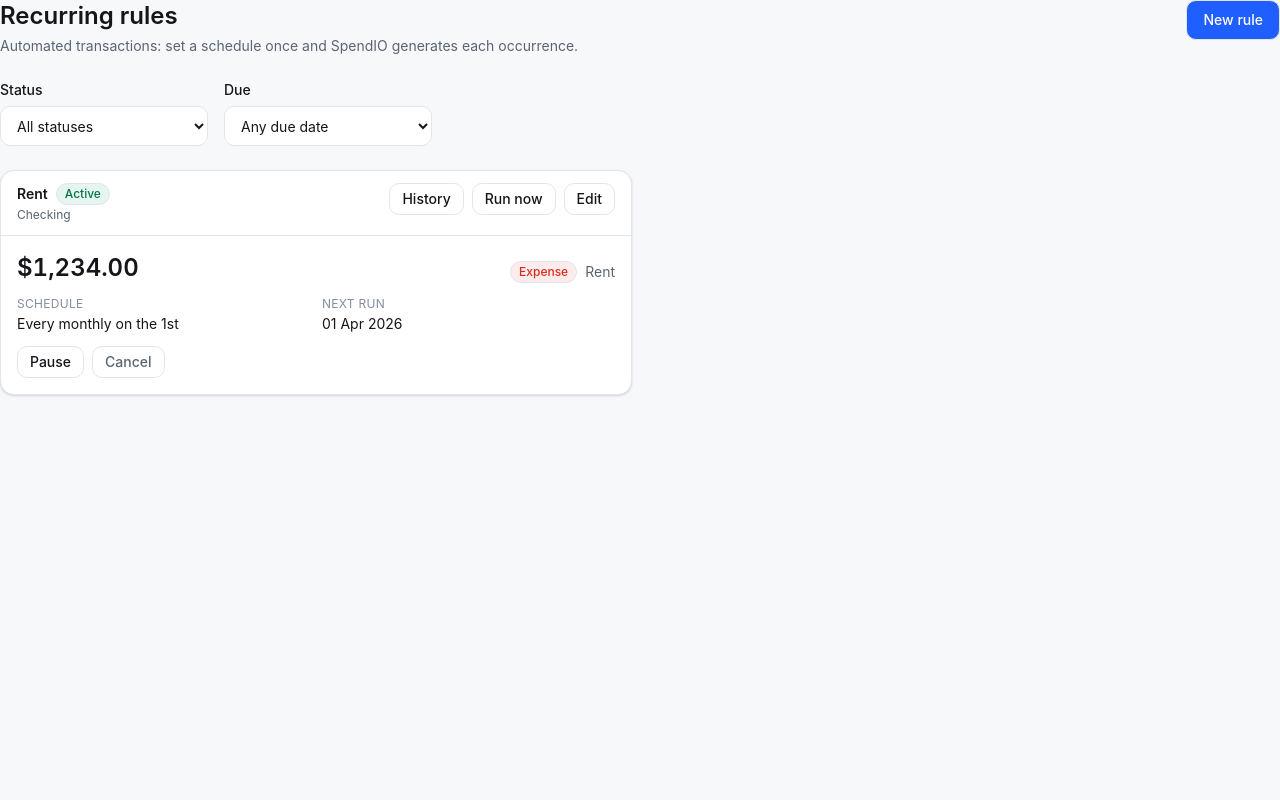
RecurringPage › opens the create modal from the header action
Click the button "New rule" at [1233, 20], box [1186,0,1279,40]
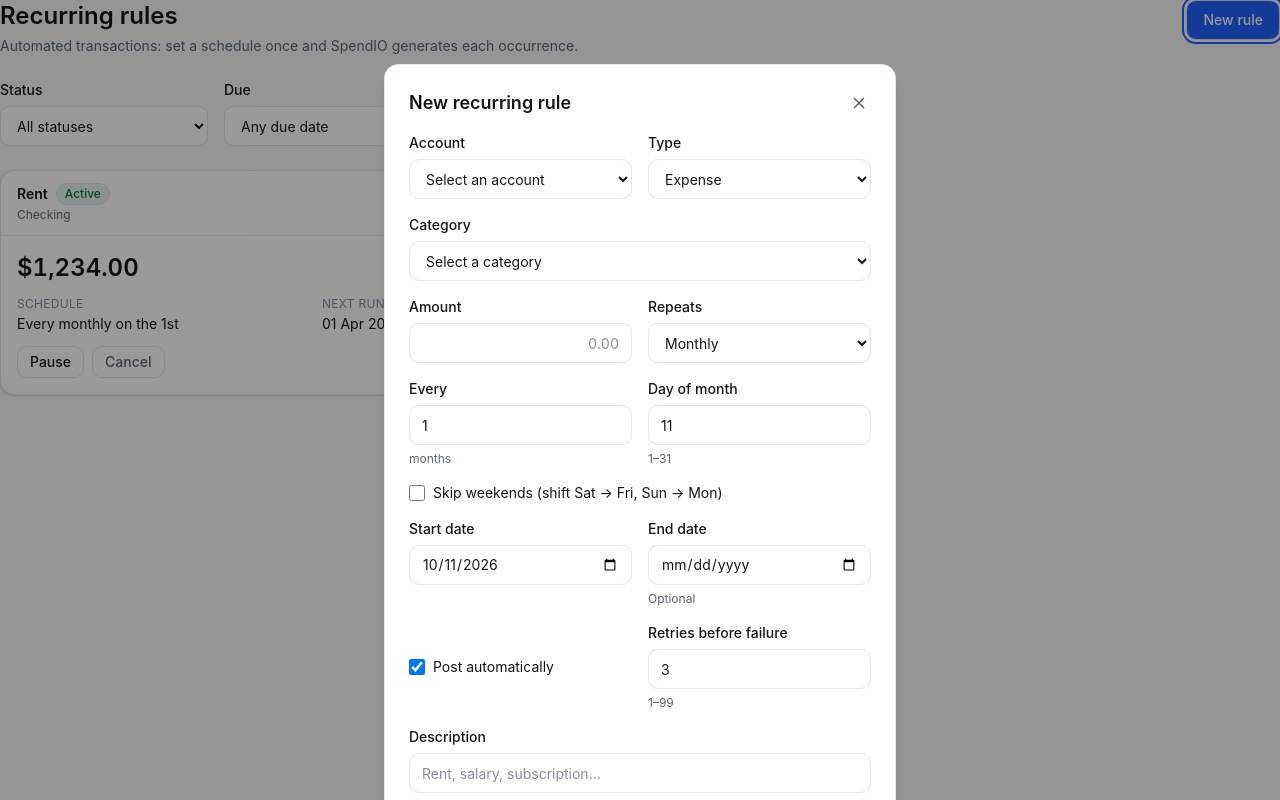
Check: the dropdown labelled "Account" is shown, box [409,159,632,199]
Check: the field labelled "Amount" is shown, box [409,323,632,363]
